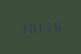one: (36, 20, 44, 33)
six: (54, 19, 62, 32)
three: (45, 19, 53, 33), (18, 21, 26, 34)
zero: (27, 20, 35, 34)
